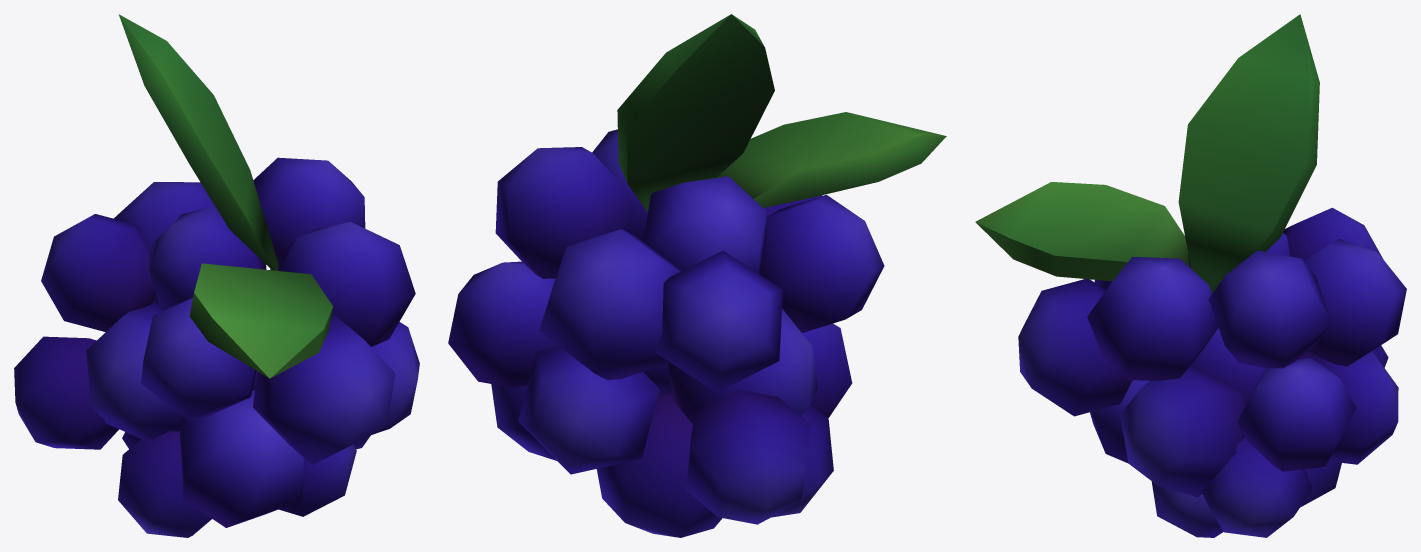
The model's file is SM_Blueberry_A.fbx.
3 views of the same model, side by side, from view 1: azimuth 30°, elevation 25°; view 2: azimuth 150°, elevation 25°; view 3: azimuth 270°, elevation 25° (orthographic). The views are drawn at different scales.
Visible parts, largest first — view 1: SM_Blueberry_A; view 2: SM_Blueberry_A; view 3: SM_Blueberry_A.
Part boxes in pixels (x1,y1,x2,y2): SM_Blueberry_A: (14, 14, 419, 537); SM_Blueberry_A: (448, 14, 946, 537); SM_Blueberry_A: (975, 14, 1406, 537).
Size of the model in its own units: 7.96 by 11.28 by 9.49.
